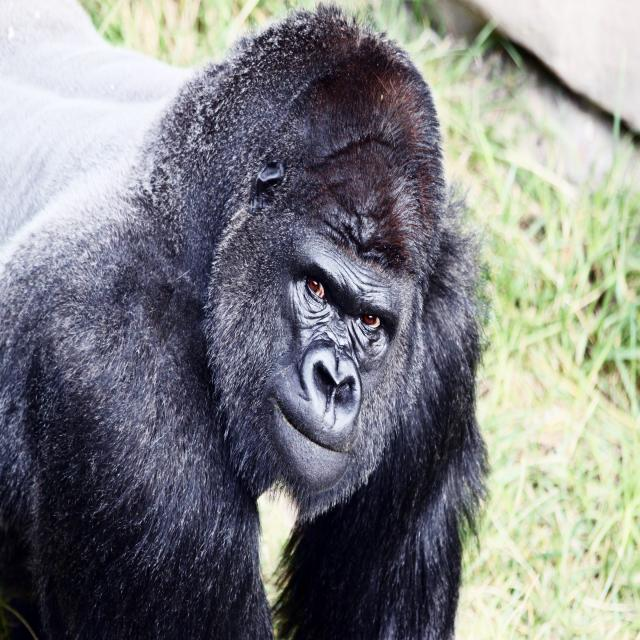Gorilla: (1, 8, 493, 640)
